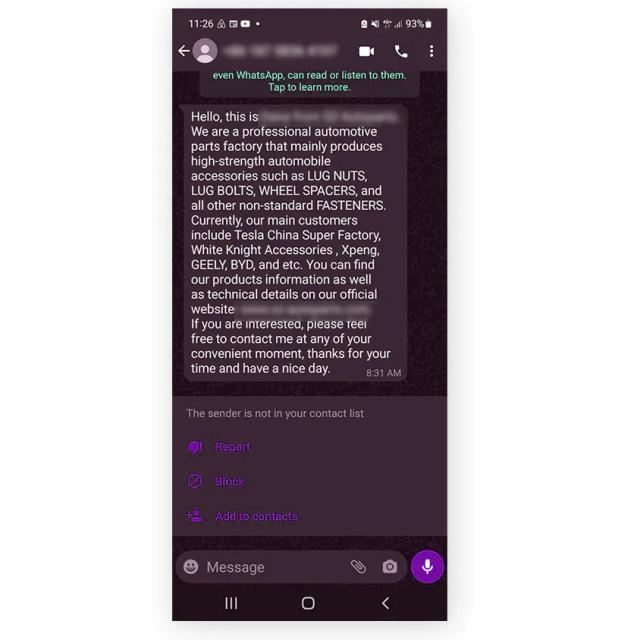scam: (184, 106, 399, 378)
